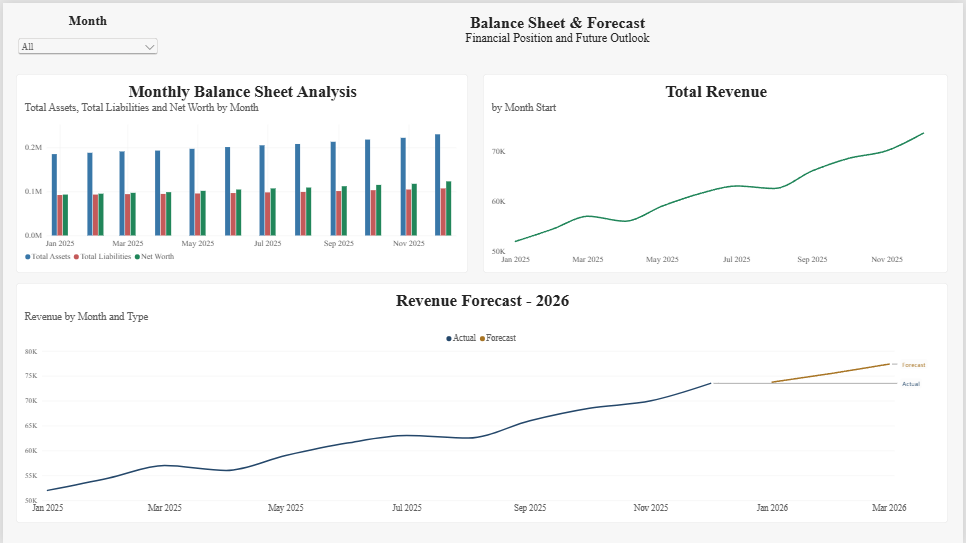

The dashboard page shown, as its layout file describes it:
{"tool":"powerbi","page":{"name":"Balance Sheet & Forecast","canvas":[1920,1080],"ordinal":2},"visuals":[{"type":"clusteredColumnChart","title":"Monthly Balance Sheet Analysis","fields":{"Category":["Financial_Data.Month"],"Y":["Financial_Data.Total Assets","Financial_Data.Total Liabilities","Financial_Data.Net Worth"]},"box":[26,142,904,398],"z":0},{"type":"lineChart","fields":{"Category":["Financial_Data.Month Start"],"Y":["Financial_Data.Total Revenue"]},"box":[960,142,930,398],"z":1000},{"type":"lineChart","title":"Monthly Revenue: Actual vs Forecast","fields":{"Category":["Revenue Forecast.Month"],"Y":["Sum(Financial_Data.Revenue)","Financial_Data.Forecast Revenue"]},"box":[26,560,1864,480],"z":2000},{"type":"slicer","title":"Month","fields":{"Values":["Financial_Data.Month"]},"box":[26,20,288,100],"z":3000},{"type":"textbox","box":[328,20,1562,100],"z":4000}]}

Visuals, with their boxes in screenshot pixels (x1, y1, x2, y2), scaled from the page's 1920x1080 canvas onto the 966x543 screenshot:
"Monthly Balance Sheet Analysis" clusteredColumnChart: bbox(13, 71, 468, 272)
lineChart - Financial_Data.Month Start x Financial_Data.Total Revenue: bbox(483, 71, 951, 272)
"Monthly Revenue: Actual vs Forecast" lineChart: bbox(13, 282, 951, 523)
"Month" slicer: bbox(13, 10, 158, 60)
textbox: bbox(165, 10, 951, 60)
